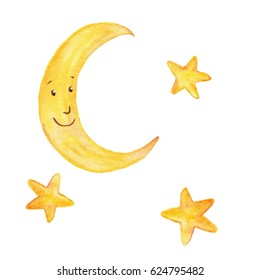moon: (36, 20, 161, 173)
star: (160, 187, 219, 246), (25, 174, 74, 223), (166, 55, 212, 99)
